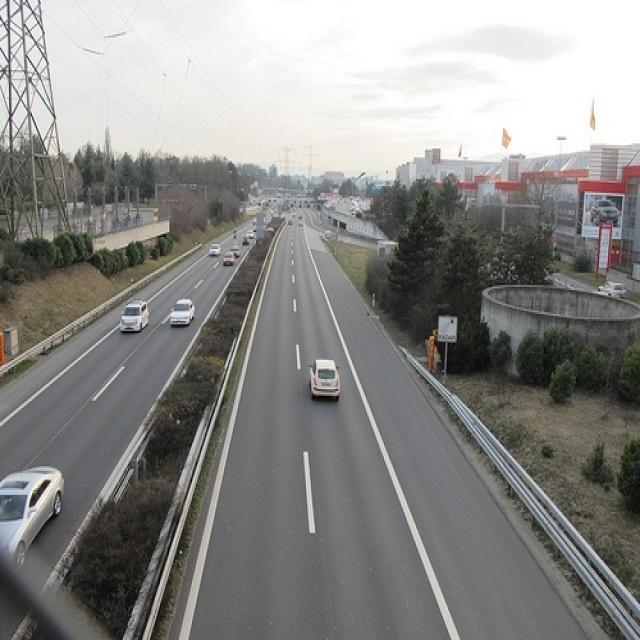Carro Branco: (307, 355, 343, 408), (117, 298, 150, 335), (170, 297, 198, 332)
Carro Prata: (0, 456, 72, 582), (209, 244, 221, 259)
Carro Vermelho: (224, 252, 237, 268)
